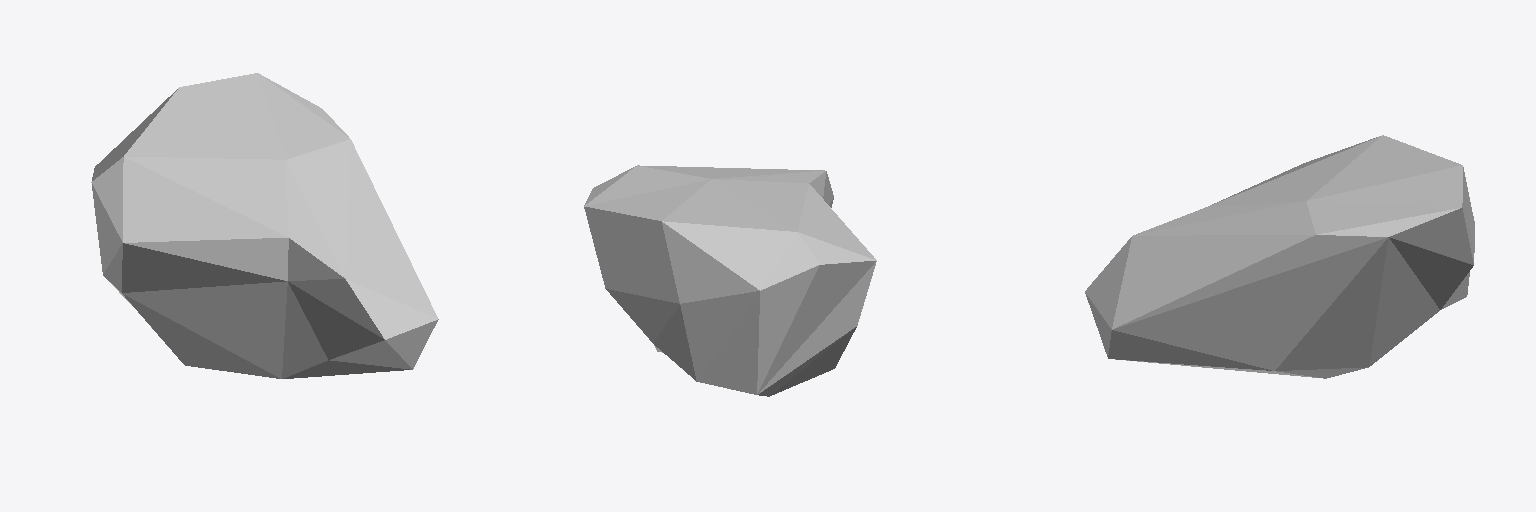
File: piedra4.obj
3 views of the same model, side by side, from view 1: azimuth 30°, elevation 25°; view 2: azimuth 150°, elevation 25°; view 3: azimuth 270°, elevation 25° (orthographic).
Visible parts, largest first — view 1: rock_4_Cube.023; view 2: rock_4_Cube.023; view 3: rock_4_Cube.023.
Boxes of the visible parts, box(x1,y1,x2,y2) form: rock_4_Cube.023: box(91, 73, 438, 378); rock_4_Cube.023: box(584, 165, 876, 396); rock_4_Cube.023: box(1085, 135, 1474, 378).
Bounding box in the file's own units: 1.76 × 1.36 × 2.46.